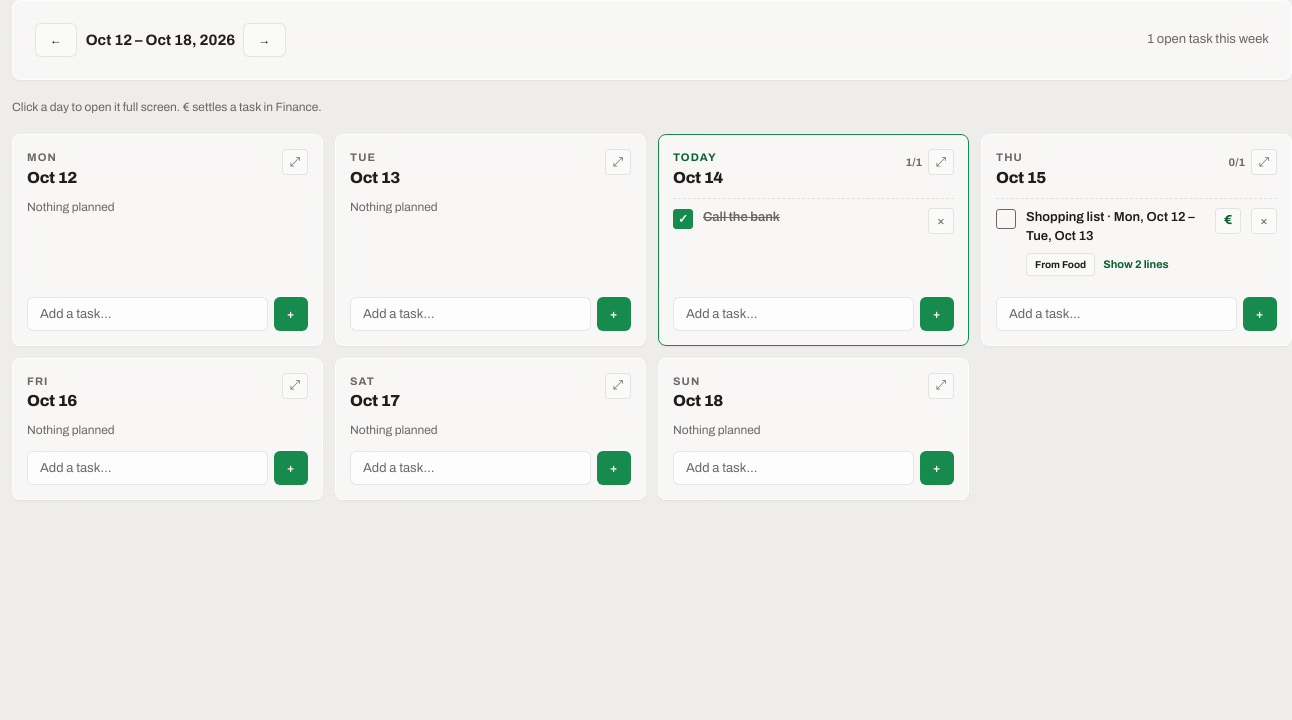
Scenario: Plans week › adds a task to a specific day
This screenshot has width=1292, height=720.
Type "Gym" into the field named "Add a task for Friday, October 16" at (147, 468), box [27,451,268,485]
Then press Enter
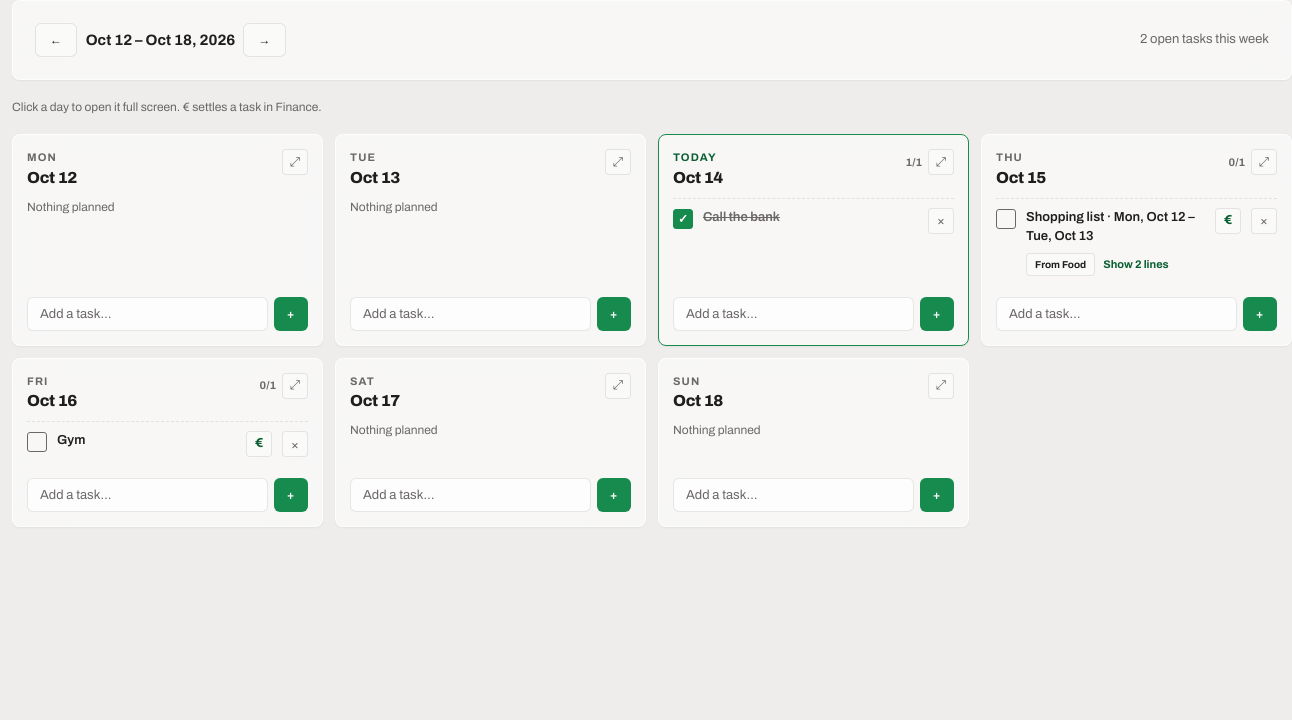
Check: the text "Gym" is shown, box [57,433,85,447]
